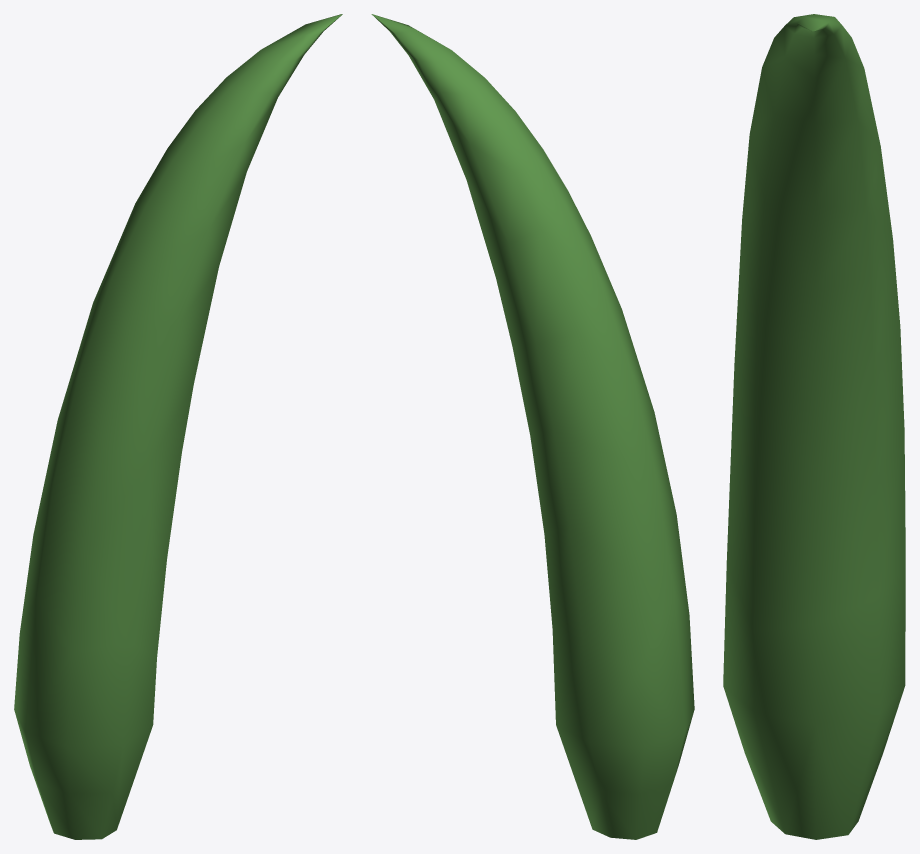
File: onion_sprout.glb
3 renders of one model, left to right at view 1: azimuth 30°, elevation 25°; view 2: azimuth 150°, elevation 25°; view 3: azimuth 270°, elevation 25°, orthographic. The views are drawn at different scales.
Visible parts, largest first — view 1: OwnerOnionSprout; view 2: OwnerOnionSprout; view 3: OwnerOnionSprout.
Boxes of the visible parts, x1=… form: OwnerOnionSprout: x1=14, y1=14, x2=342, y2=839; OwnerOnionSprout: x1=371, y1=14, x2=694, y2=839; OwnerOnionSprout: x1=723, y1=14, x2=905, y2=839.
Bounding box in the file's own units: 0.2861 × 0.6485 × 0.1131.
